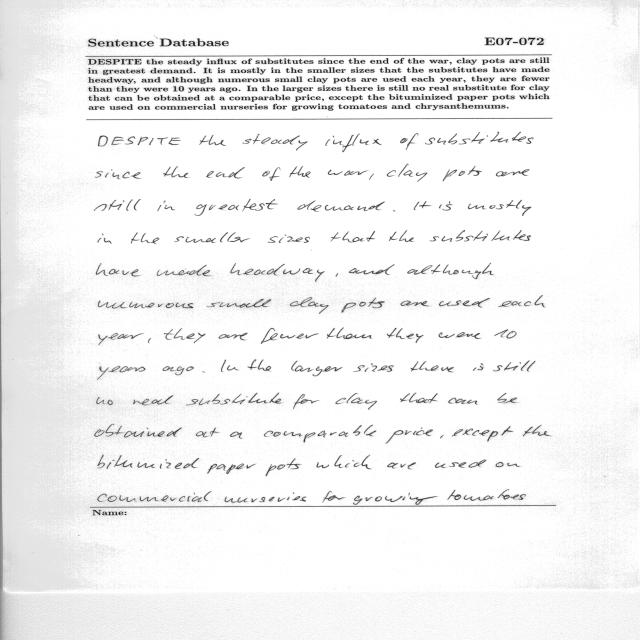word: (264, 425, 376, 442), (231, 263, 325, 282), (98, 455, 199, 469), (195, 199, 278, 216), (426, 132, 534, 145), (407, 263, 494, 279), (98, 491, 212, 502), (430, 230, 531, 242), (186, 393, 282, 405), (95, 424, 182, 437), (354, 492, 438, 505), (243, 134, 308, 150), (325, 134, 382, 152), (468, 200, 531, 216), (297, 201, 385, 212), (261, 328, 319, 344), (452, 426, 513, 441), (98, 136, 181, 147), (447, 490, 526, 501), (175, 232, 250, 243), (225, 493, 306, 503), (294, 365, 365, 376), (385, 428, 433, 444), (98, 301, 193, 309), (317, 455, 371, 469), (411, 361, 477, 372), (387, 164, 427, 182), (336, 393, 377, 410), (290, 297, 329, 314), (342, 298, 385, 313), (98, 366, 146, 379), (164, 328, 205, 343), (443, 166, 482, 181), (157, 265, 210, 276), (266, 459, 300, 476), (499, 296, 546, 308), (97, 264, 140, 277), (95, 199, 141, 211), (248, 360, 298, 371), (387, 328, 423, 343), (207, 463, 256, 474), (99, 333, 143, 345), (207, 299, 271, 307), (349, 264, 395, 275), (331, 231, 375, 242), (327, 328, 371, 339), (439, 298, 490, 307), (96, 169, 141, 179), (206, 167, 245, 178), (435, 460, 486, 468), (133, 395, 173, 405), (293, 394, 319, 409), (400, 393, 438, 403), (163, 367, 205, 376), (504, 361, 535, 372), (268, 235, 310, 243), (163, 166, 189, 178), (131, 233, 159, 244), (523, 425, 551, 436), (400, 133, 418, 150), (199, 135, 226, 146), (439, 332, 481, 339), (389, 231, 414, 242), (496, 169, 529, 177), (365, 363, 394, 372), (262, 167, 280, 181), (290, 166, 311, 178), (323, 491, 345, 502), (328, 170, 367, 176), (448, 398, 478, 405), (494, 330, 517, 339), (196, 428, 219, 437), (387, 463, 416, 470), (478, 364, 503, 372), (497, 393, 517, 403), (219, 333, 247, 340), (157, 201, 175, 211), (414, 201, 431, 210), (98, 234, 112, 244), (401, 301, 429, 306), (96, 397, 113, 405), (439, 201, 452, 211), (496, 462, 520, 467), (230, 432, 242, 439), (221, 359, 226, 372), (227, 366, 238, 371), (369, 174, 374, 180), (148, 338, 151, 343), (440, 435, 444, 438), (336, 273, 338, 277), (393, 210, 395, 211)
